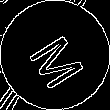M_NE: (21, 22, 89, 88)
